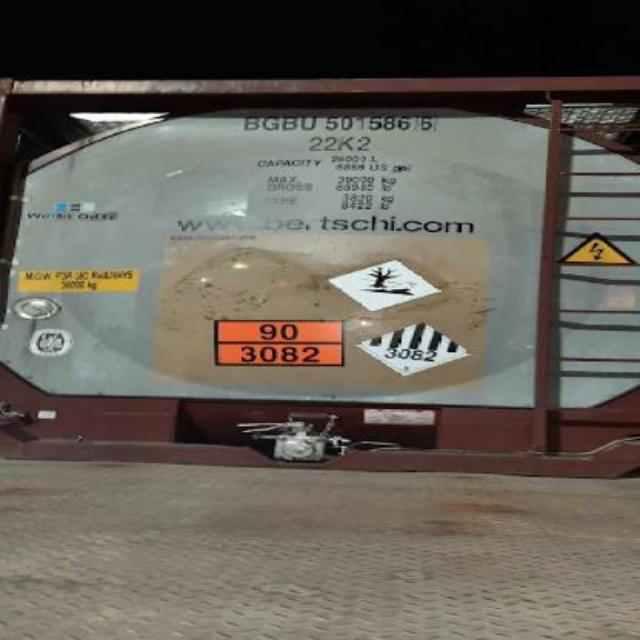0: (338, 114, 354, 130)
1: (354, 115, 370, 128)
5: (324, 114, 340, 130), (368, 116, 382, 130)
6: (418, 116, 436, 130), (398, 116, 412, 130)
8: (384, 116, 398, 130)
B: (280, 115, 300, 131), (242, 116, 262, 130)
G: (262, 116, 280, 132)
U: (300, 115, 318, 131)
